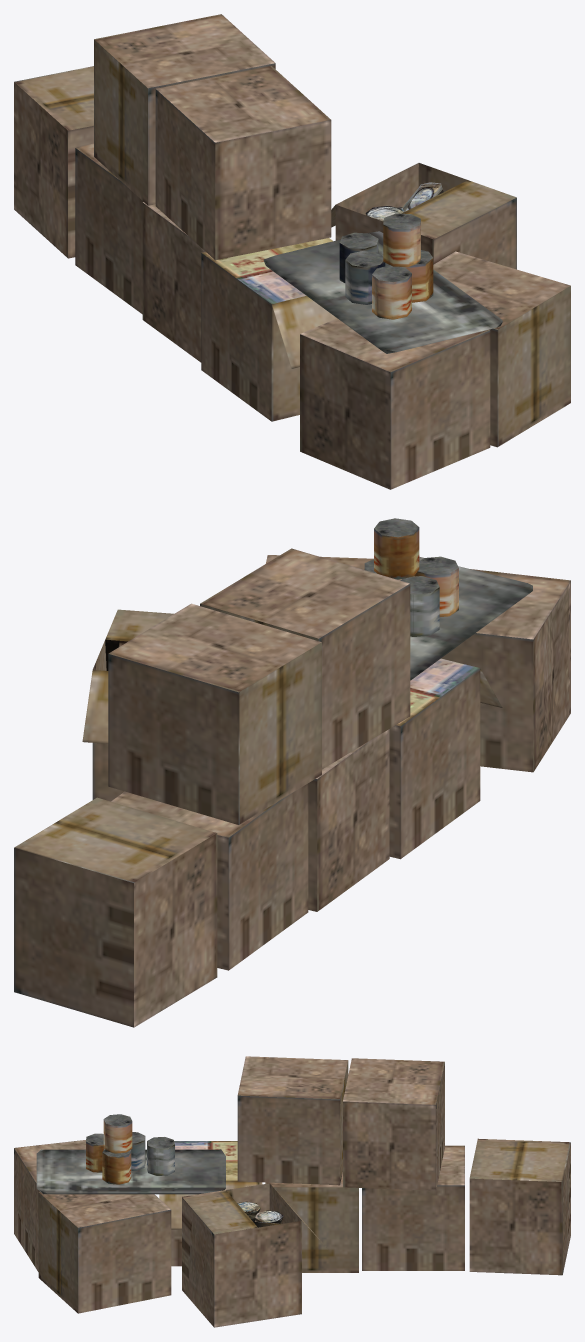
File: gtools04.glb
The picture shows the model from 3 angles, top to bottom: view 1: azimuth 30°, elevation 25°; view 2: azimuth 150°, elevation 25°; view 3: azimuth 270°, elevation 25°; orthographic projection. The views are drawn at different scales.
Visible parts, largest first — view 1: _gtools04; view 2: _gtools04; view 3: _gtools04.
Boxes of the visible parts, left/top/right/bottom form: _gtools04: left=14, top=14, right=570, bottom=489; _gtools04: left=14, top=518, right=570, bottom=1027; _gtools04: left=14, top=1056, right=570, bottom=1327.
Bounding box in the file's own units: 1.1 × 0.8473 × 2.49.
1 material, 1 textured.
